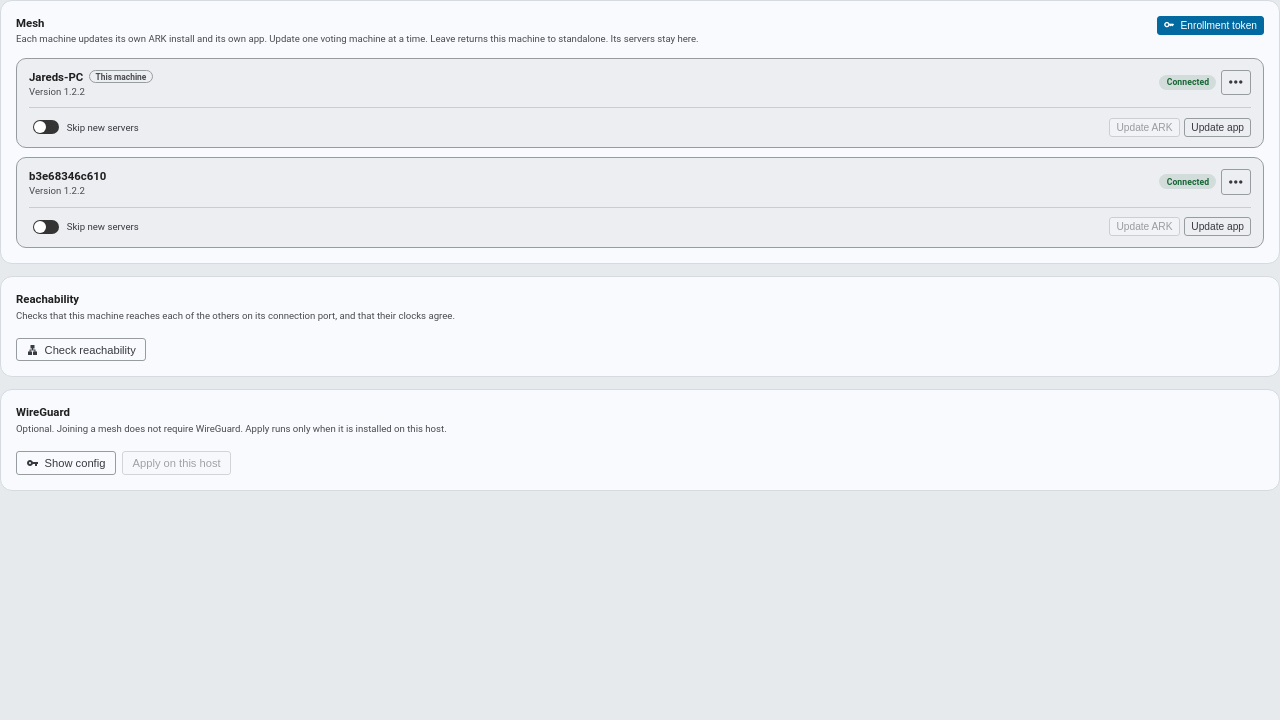
it: MeshSettingsComponent › naming a machine › starts from the current name
The image size is (1280, 720).
Click the button with class "mesh-node-more" in the row of "b3e68346c610" at point(1236, 182), box [1221,169,1251,195]
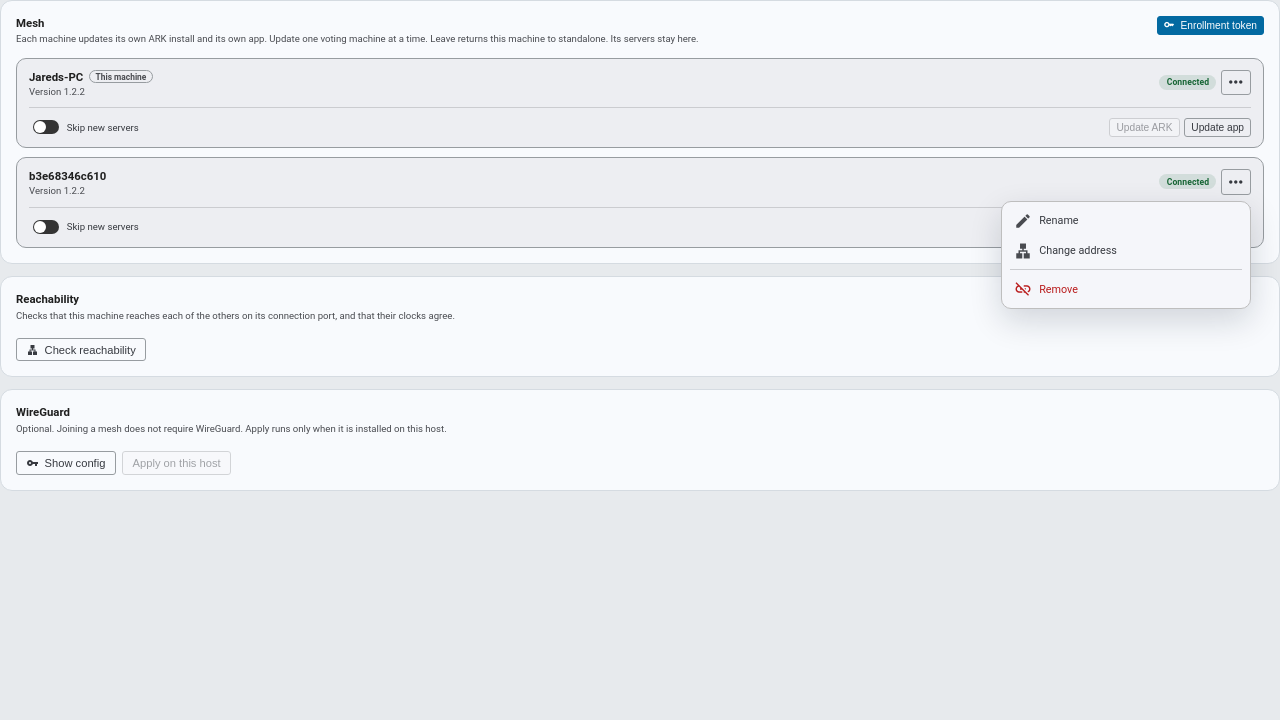
Click the menu item "Rename" at point(1126, 221), box [1006,206,1246,236]
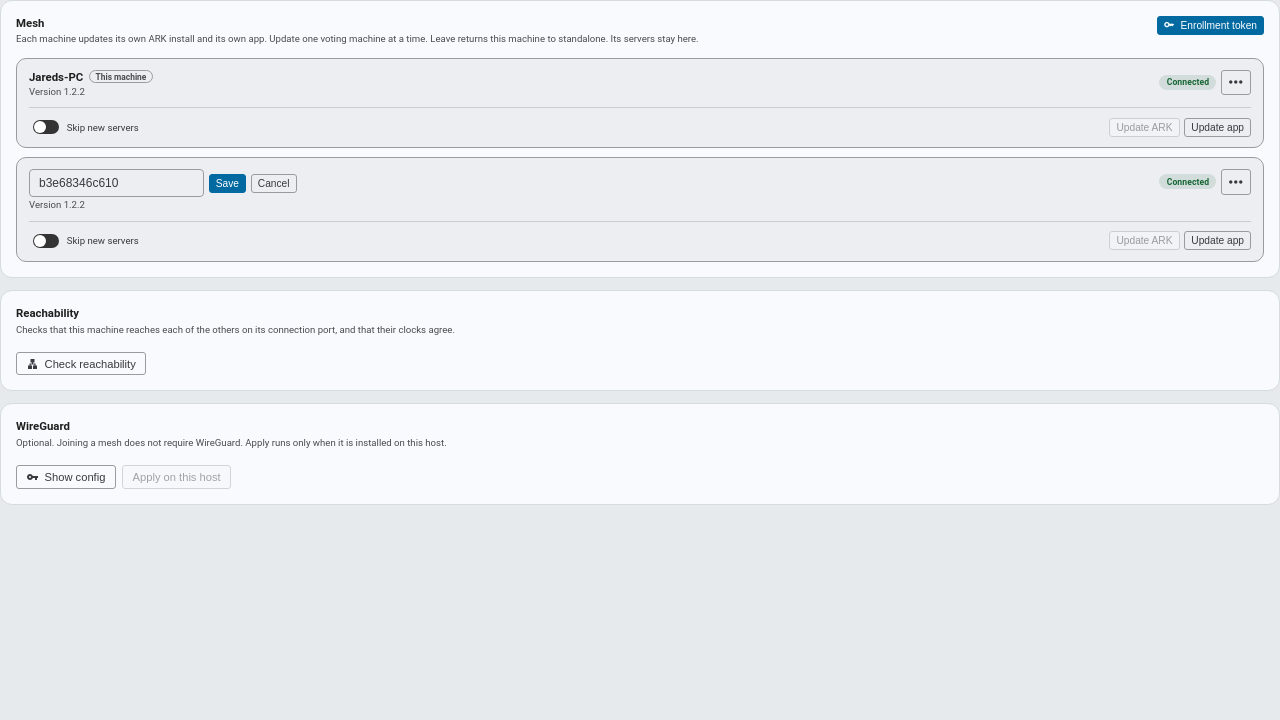
Now the field with class "mesh-node-rename-input" holds "b3e68346c610", box [29,169,204,197]
